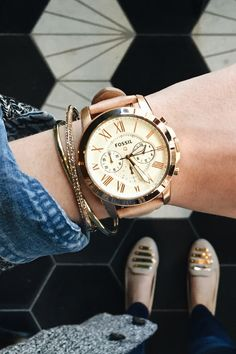clock: (76, 106, 184, 205)
